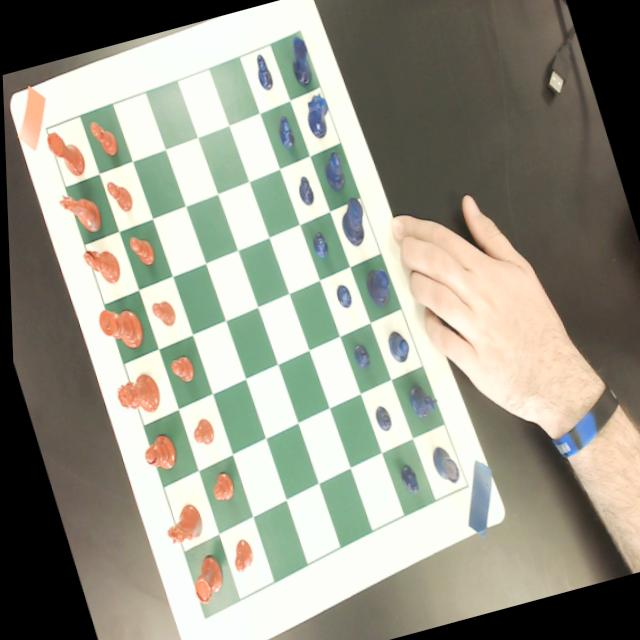B: (318, 150, 348, 192), (382, 328, 411, 363)
K: (332, 194, 371, 248)
N: (299, 89, 335, 139), (403, 379, 438, 422)
P: (249, 51, 276, 92), (392, 461, 419, 499), (272, 112, 297, 150), (368, 402, 392, 434), (347, 340, 371, 372), (306, 229, 330, 260), (293, 173, 314, 206), (330, 281, 353, 311)
Q: (359, 266, 393, 308)
R: (282, 34, 318, 90), (424, 442, 459, 487)
b: (79, 242, 121, 289), (135, 432, 177, 476)
k: (92, 300, 146, 356)
n: (53, 184, 104, 240), (156, 499, 204, 546)
p: (87, 116, 120, 160), (104, 177, 135, 216), (125, 232, 156, 268), (224, 536, 253, 574), (204, 470, 234, 504), (165, 352, 195, 386), (148, 298, 177, 330), (186, 416, 213, 446)
q: (109, 370, 161, 420)
r: (180, 550, 226, 606), (43, 126, 88, 182)
